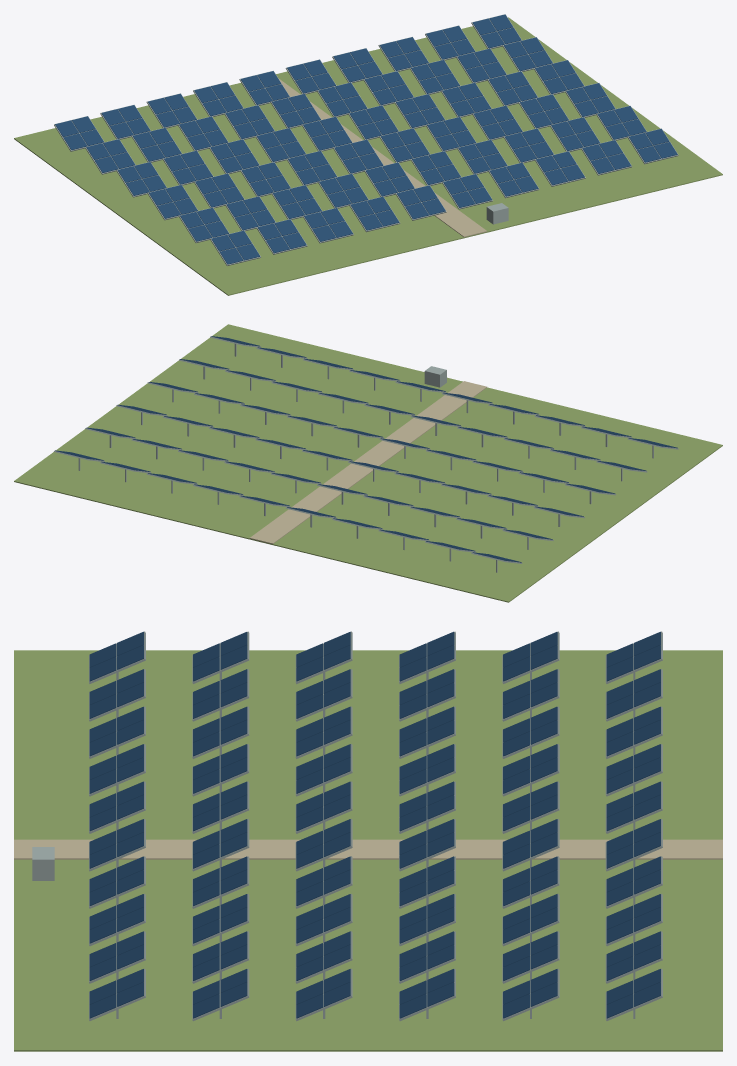
Rendered from solar.glb.
The picture shows the model from 3 angles, top to bottom: view 1: azimuth 30°, elevation 25°; view 2: azimuth 150°, elevation 25°; view 3: azimuth 270°, elevation 25°; orthographic projection. The views are drawn at different scales.
Parts seen in each view (by area): view 1: solar; view 2: solar; view 3: solar.
Boxes of the visible parts, <box> form: solar: <box>14,14,722,295</box>; solar: <box>14,324,722,602</box>; solar: <box>14,631,722,1051</box>.
Bounding box in the file's own units: 64 × 2.87 × 48.
